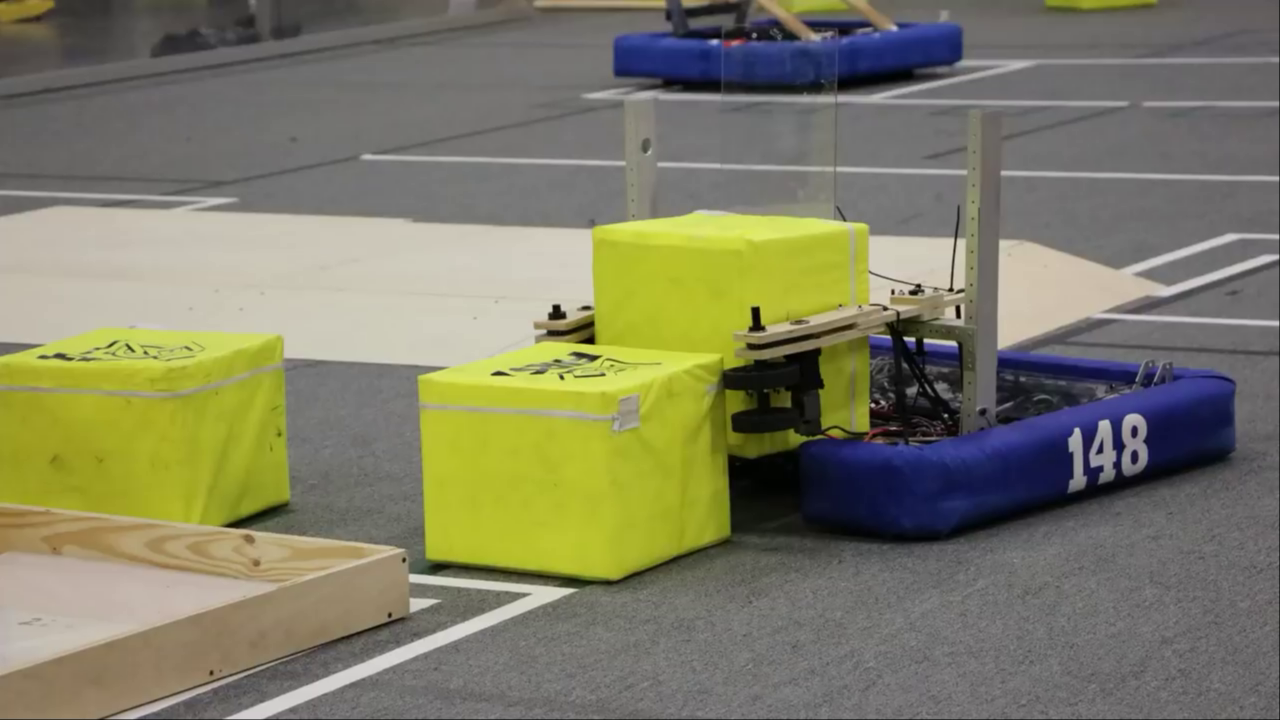cube: (419, 342, 731, 585), (592, 210, 871, 454), (1, 329, 289, 546)
